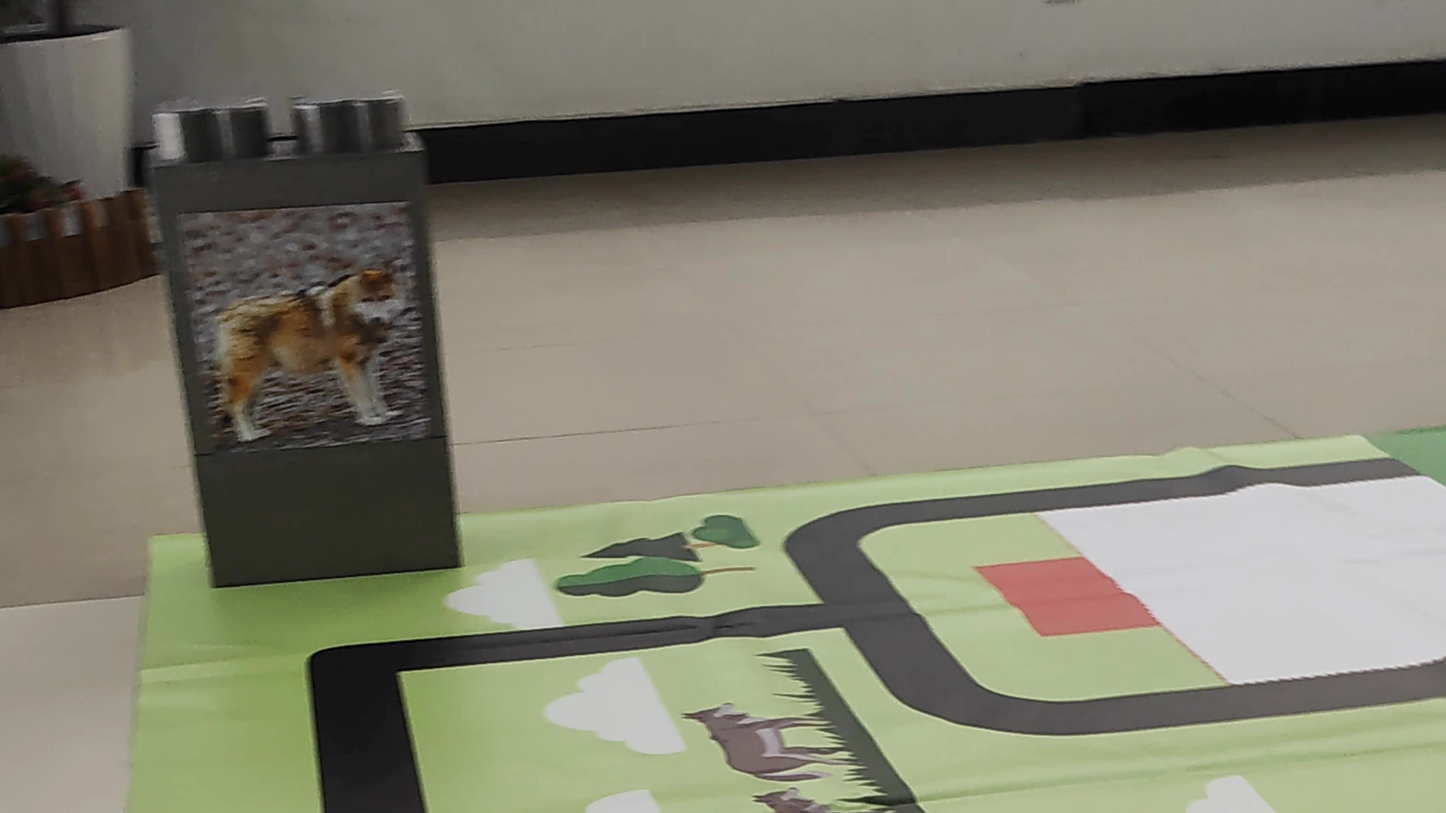wolf: (199, 241, 412, 438)
